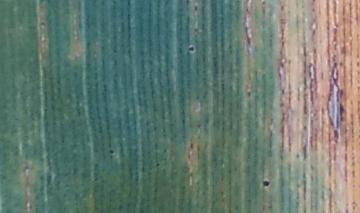tarspot: (243, 24, 251, 48), (338, 101, 345, 122), (332, 128, 340, 143), (186, 45, 196, 54), (261, 180, 271, 188), (194, 122, 202, 132), (107, 147, 115, 156), (338, 88, 344, 100), (191, 26, 200, 34), (278, 101, 286, 109), (192, 4, 199, 13), (188, 141, 194, 151), (302, 123, 308, 133), (154, 161, 161, 169), (245, 90, 252, 98), (279, 4, 286, 12), (294, 152, 301, 160), (38, 20, 46, 27), (286, 58, 292, 67), (162, 146, 168, 155), (260, 1, 268, 7), (310, 5, 316, 13), (280, 87, 286, 95), (332, 61, 338, 69), (194, 94, 200, 101), (244, 6, 249, 14), (355, 60, 360, 67), (310, 1, 316, 5)
